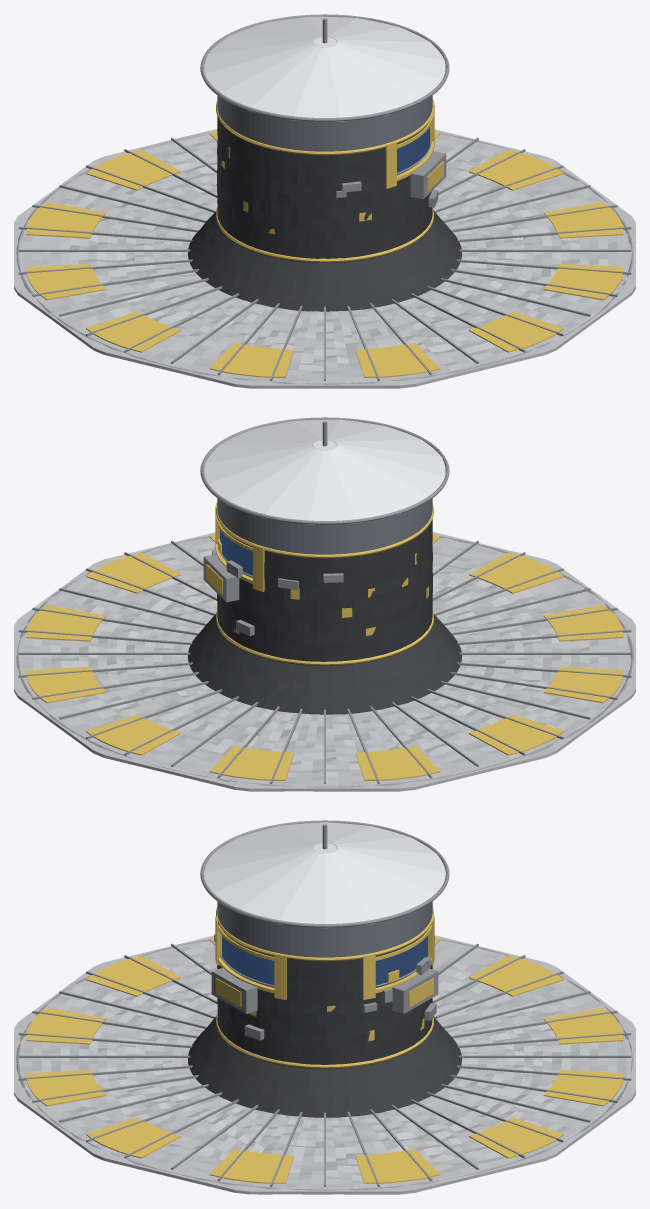
Rendered from gaia.glb.
3 views of the same model, one above another, from view 1: azimuth 30°, elevation 25°; view 2: azimuth 150°, elevation 25°; view 3: azimuth 270°, elevation 25° (orthographic).
Parts seen in each view (by area): view 1: DSA_Sunshield, PLM_ThermalTent, PLM_Cap, PLM_Skirt, PLM_GlossBand, PLM_CapRim, DSA_GoldPanel_09, DSA_GoldPanel_06, DSA_GoldPanel_08, DSA_GoldPanel_07, DSA_GoldPanel_00, DSA_GoldPanel_03 (+10 smaller); view 2: DSA_Sunshield, PLM_ThermalTent, PLM_Cap, PLM_Skirt, PLM_GlossBand, PLM_CapRim, DSA_GoldPanel_02, DSA_GoldPanel_05, DSA_GoldPanel_03, DSA_GoldPanel_04, DSA_GoldPanel_11, DSA_GoldPanel_08 (+10 smaller); view 3: DSA_Sunshield, PLM_Cap, PLM_ThermalTent, PLM_Skirt, PLM_GlossBand, PLM_CapRim, DSA_GoldPanel_01, DSA_GoldPanel_10, DSA_GoldPanel_00, DSA_GoldPanel_11, DSA_GoldPanel_04, DSA_GoldPanel_07 (+13 smaller).
Part boxes in pixels (x1,y1,x2,y2): DSA_Sunshield: (14,129,635,388); PLM_ThermalTent: (216,116,432,262); PLM_Cap: (204,16,445,121); PLM_Skirt: (188,210,461,311); PLM_GlossBand: (217,95,432,151); PLM_CapRim: (200,14,449,121); DSA_GoldPanel_09: (469,311,563,352); DSA_GoldPanel_06: (86,311,180,352); DSA_GoldPanel_08: (356,343,440,377); DSA_GoldPanel_07: (209,343,293,377); DSA_GoldPanel_00: (469,149,563,190); DSA_GoldPanel_03: (86,149,180,190); DSA_Sunshield: (14,532,635,791); PLM_ThermalTent: (217,519,432,665); PLM_Cap: (204,419,445,524); PLM_Skirt: (188,613,461,714); PLM_GlossBand: (217,498,432,554); PLM_CapRim: (200,417,449,524); DSA_GoldPanel_02: (86,714,180,755); DSA_GoldPanel_05: (469,714,563,755); DSA_GoldPanel_03: (209,746,293,780); DSA_GoldPanel_04: (356,746,440,780); DSA_GoldPanel_11: (86,552,180,593); DSA_GoldPanel_08: (469,552,563,593); DSA_Sunshield: (14,935,635,1194); PLM_Cap: (204,822,445,928); PLM_ThermalTent: (217,927,432,1068); PLM_Skirt: (188,987,461,1117); PLM_GlossBand: (217,901,432,957); PLM_CapRim: (200,820,449,927); DSA_GoldPanel_01: (469,1117,563,1158); DSA_GoldPanel_10: (86,1117,180,1158); DSA_GoldPanel_00: (356,1149,440,1183); DSA_GoldPanel_11: (209,1149,293,1183); DSA_GoldPanel_04: (469,955,563,996); DSA_GoldPanel_07: (86,955,180,996).
Bounding box in the file's own units: 9.66 × 4.19 × 9.66.
